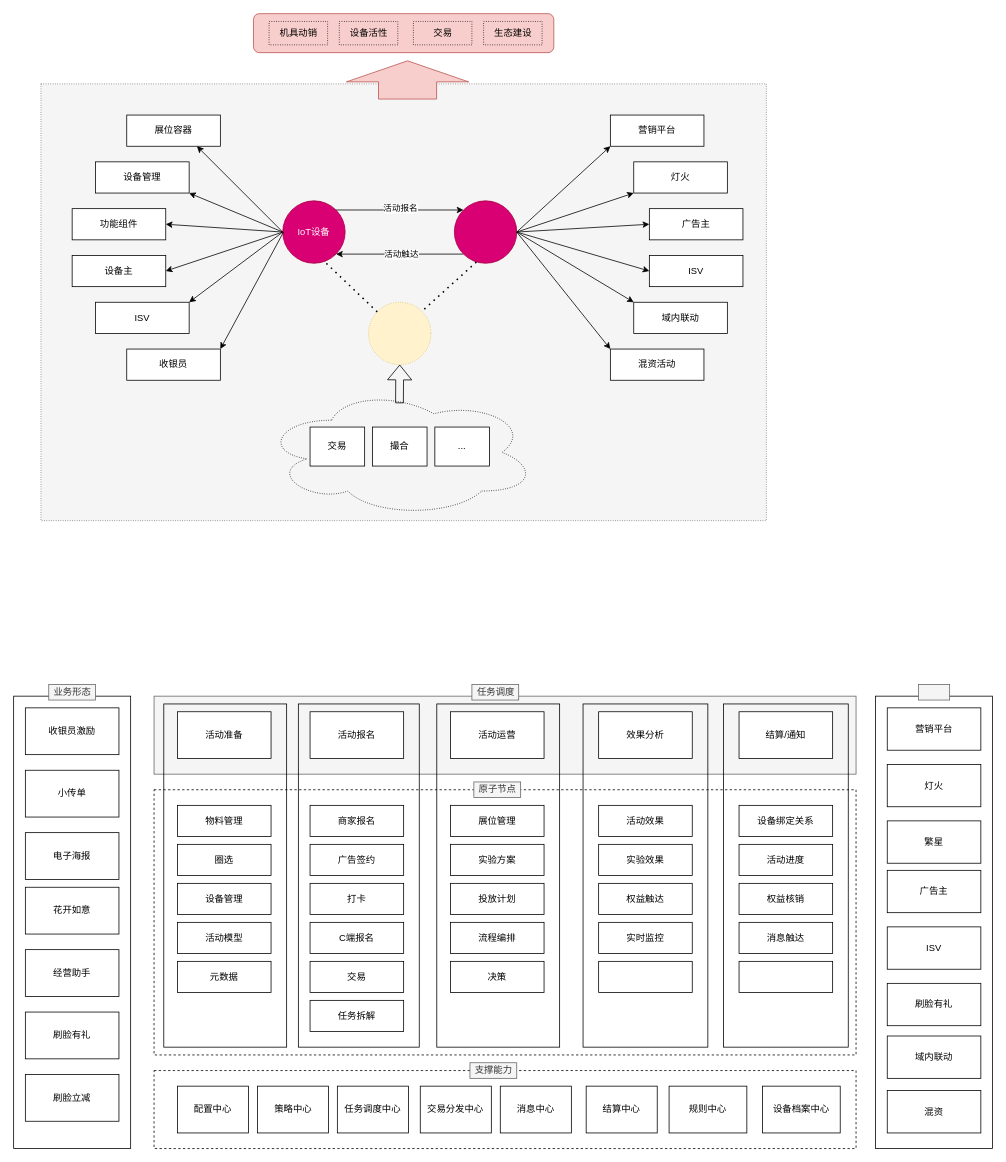
Image size: 1006x1162. Some labels were removed from this diagram. Each missing label, with the centre of its shape:
"媒介" goes at (x=399, y=333).
"水源" goes at (x=934, y=692).
"活动" goes at (x=485, y=231).
